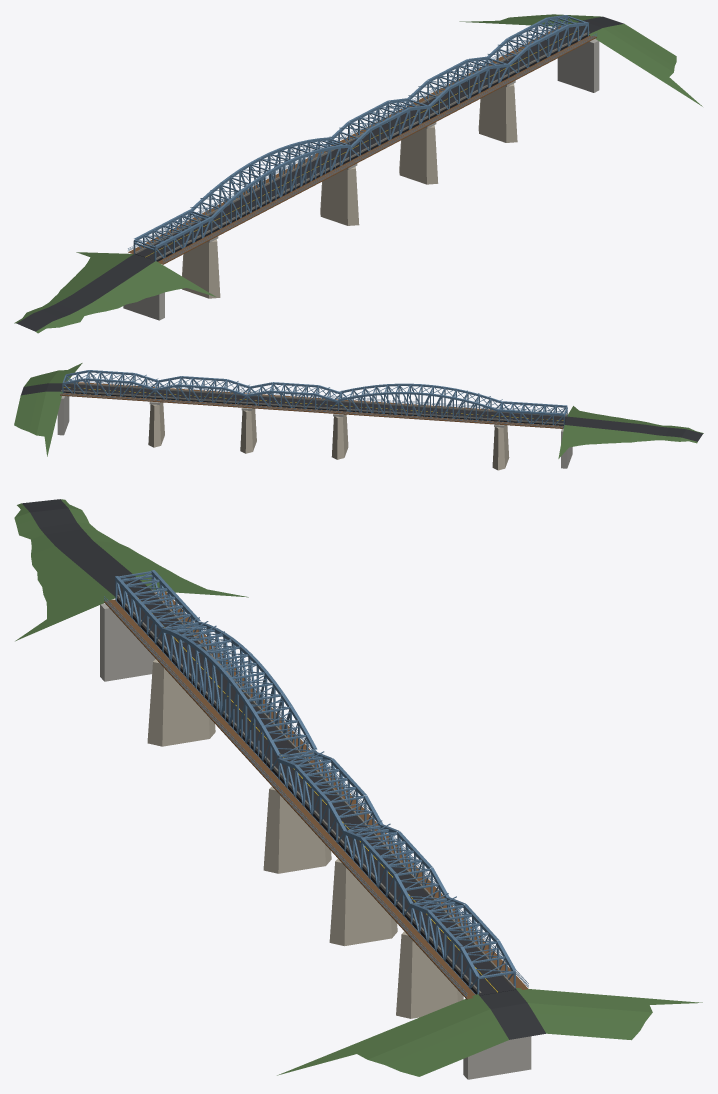
The model's file is br_r15_dawson_lod1.gltf.
The picture shows the model from 3 angles, top to bottom: view 1: azimuth 30°, elevation 25°; view 2: azimuth 150°, elevation 25°; view 3: azimuth 270°, elevation 25°; orthographic projection. The views are drawn at different scales.
Parts seen in each view (by area): view 1: br_r15_dawson_lod1; view 2: br_r15_dawson_lod1; view 3: br_r15_dawson_lod1.
Boxes of the visible parts, bbox=[...] form: br_r15_dawson_lod1: bbox=[14, 14, 702, 333]; br_r15_dawson_lod1: bbox=[14, 363, 703, 470]; br_r15_dawson_lod1: bbox=[14, 499, 702, 1079].
Bounding box in the file's own units: 311 × 35.45 × 162.
